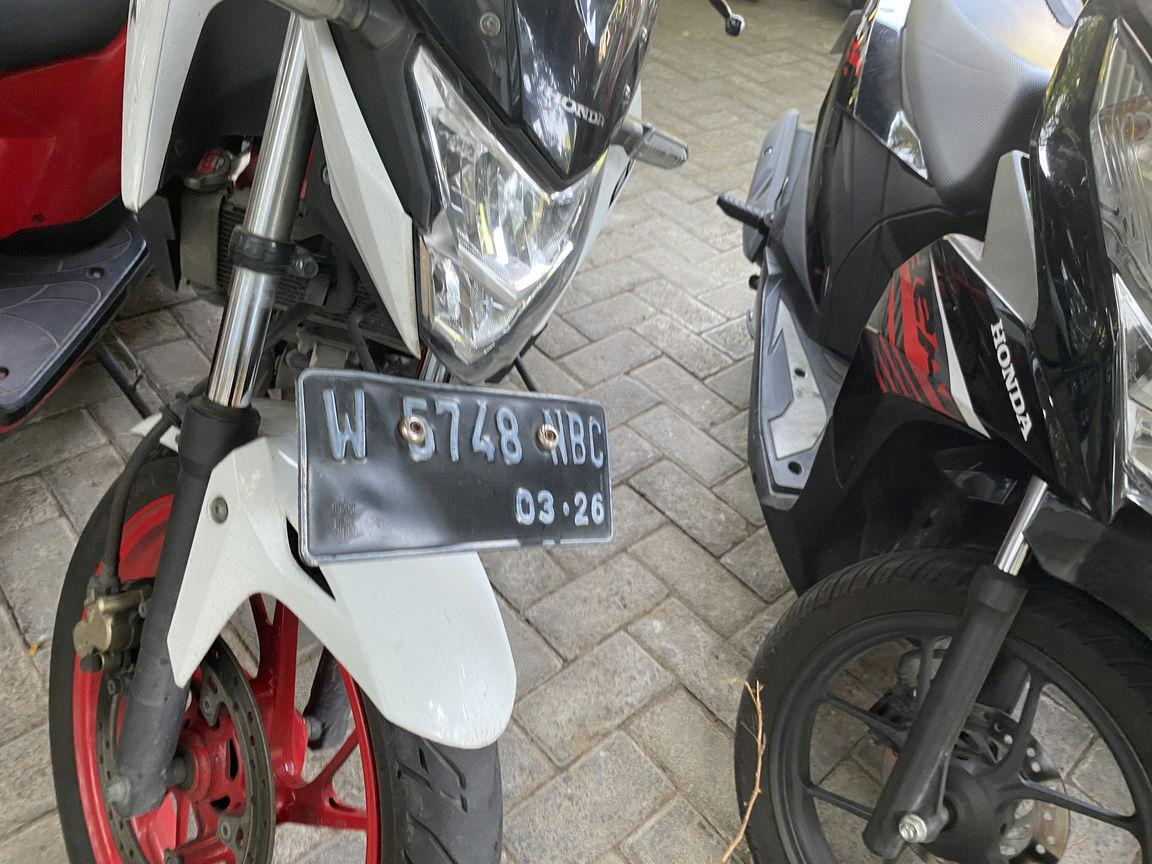plat: (297, 369, 610, 562)
